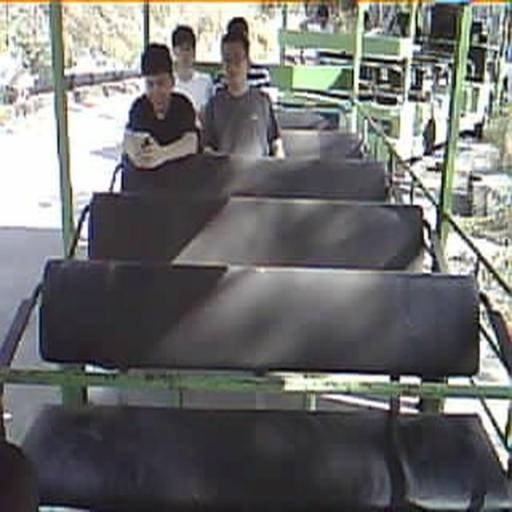persona: (198, 30, 285, 159), (120, 42, 202, 170), (212, 15, 272, 100), (170, 25, 214, 115)
